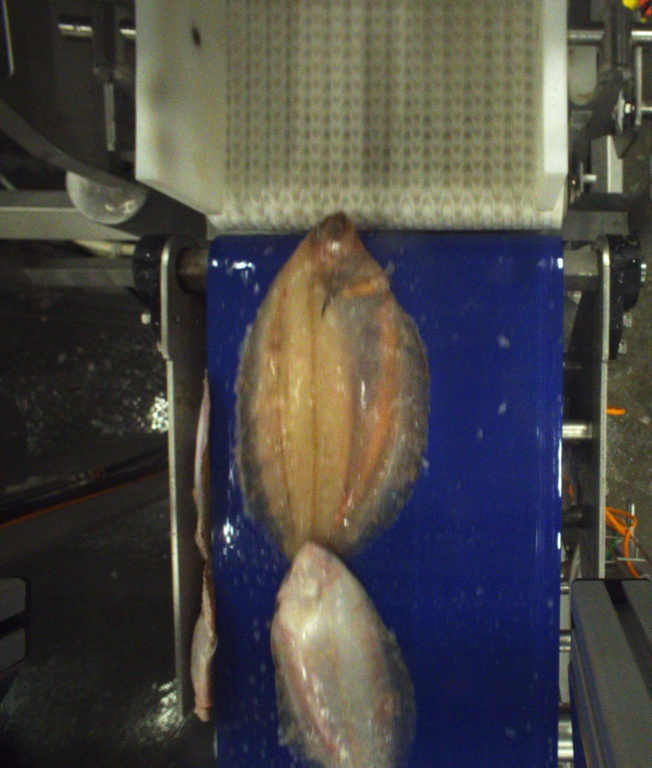WIT: (234, 214, 428, 587)
